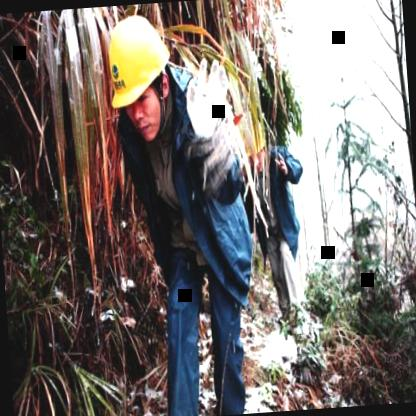helmet: (96, 2, 185, 155), (242, 119, 272, 175)
